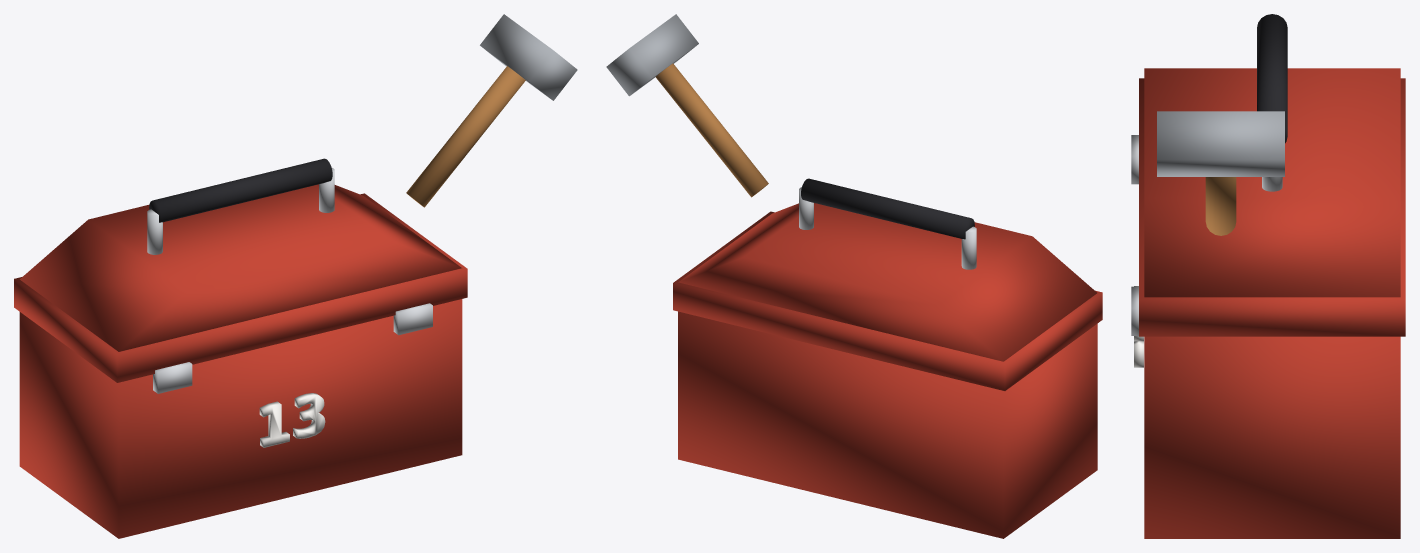
File: toolbox.glb
3 renders of one model, left to right at view 1: azimuth 30°, elevation 25°; view 2: azimuth 150°, elevation 25°; view 3: azimuth 270°, elevation 25°, orthographic. The views are drawn at different scales.
Visible parts, largest first — view 1: part0, part3, part9, part10, part4, part8; view 2: part0, part3, part9, part10, part4; view 3: part0, part10, part3, part9, part4.
Part boxes in pixels (x1=…): part0: x1=14, y1=184, x2=467, y2=538; part3: x1=149, y1=158, x2=332, y2=222; part9: x1=406, y1=66, x2=525, y2=207; part10: x1=480, y1=14, x2=577, y2=100; part4: x1=147, y1=168, x2=432, y2=393; part8: x1=259, y1=393, x2=325, y2=447; part0: x1=673, y1=203, x2=1102, y2=538; part3: x1=801, y1=178, x2=974, y2=239; part9: x1=656, y1=63, x2=768, y2=197; part10: x1=606, y1=14, x2=698, y2=96; part4: x1=799, y1=187, x2=976, y2=269; part0: x1=1139, y1=68, x2=1405, y2=538; part10: x1=1157, y1=111, x2=1284, y2=176; part3: x1=1257, y1=14, x2=1287, y2=143; part9: x1=1205, y1=177, x2=1236, y2=235; part4: x1=1131, y1=135, x2=1282, y2=335.
Bounding box in the file's own units: 1 × 0.7722 × 0.3932.
